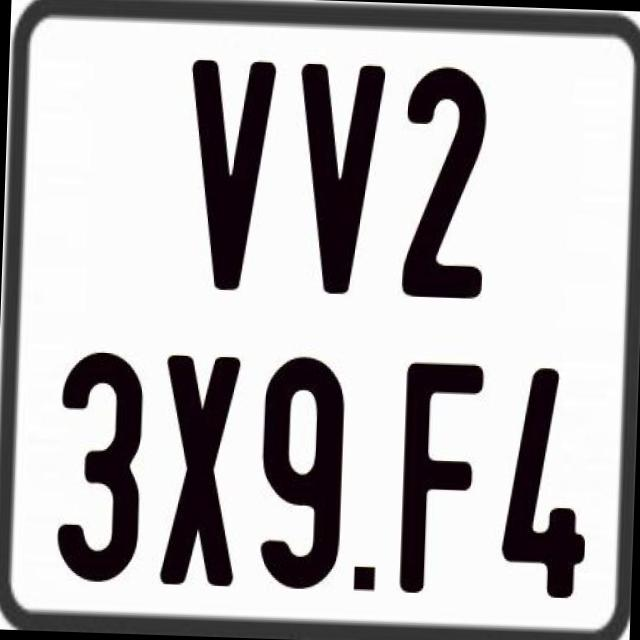2: (399, 60, 492, 298)
3: (56, 347, 146, 588)
4: (500, 363, 598, 595)
9: (255, 350, 346, 590)
F: (398, 360, 488, 593)
V: (292, 61, 389, 295), (185, 56, 280, 292)
X: (157, 354, 245, 596)
